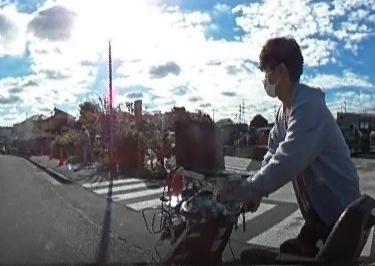person: (237, 30, 364, 266), (79, 123, 93, 164)
